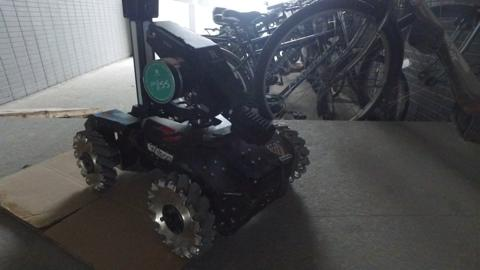bike: (191, 1, 442, 143)
chariot: (74, 3, 291, 251)
